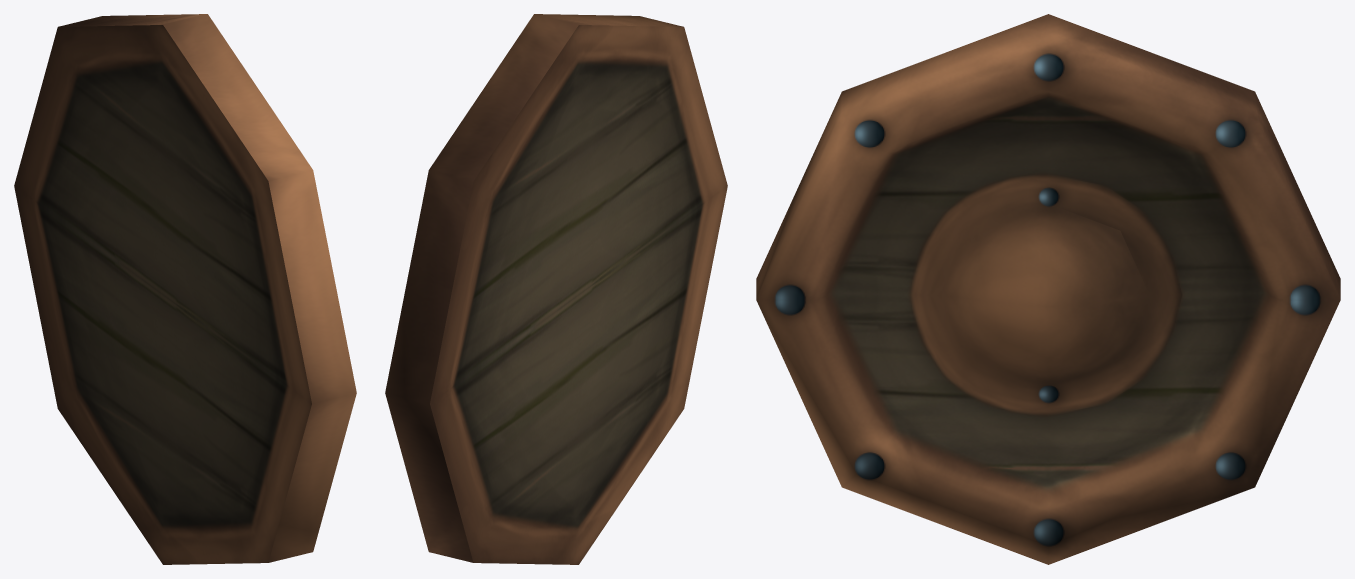
File: Shield01.FBX
3 views of the same model, side by side, from view 1: azimuth 30°, elevation 25°; view 2: azimuth 150°, elevation 25°; view 3: azimuth 270°, elevation 25° (orthographic).
Parts seen in each view (by area): view 1: Box01; view 2: Box01; view 3: Box01.
Boxes of the visible parts, box(x1,y1,x2,y2) form: Box01: box(14, 14, 356, 564); Box01: box(385, 14, 727, 564); Box01: box(756, 14, 1340, 564).
Bounding box in the file's own units: 3.1 × 27.21 × 27.21.
